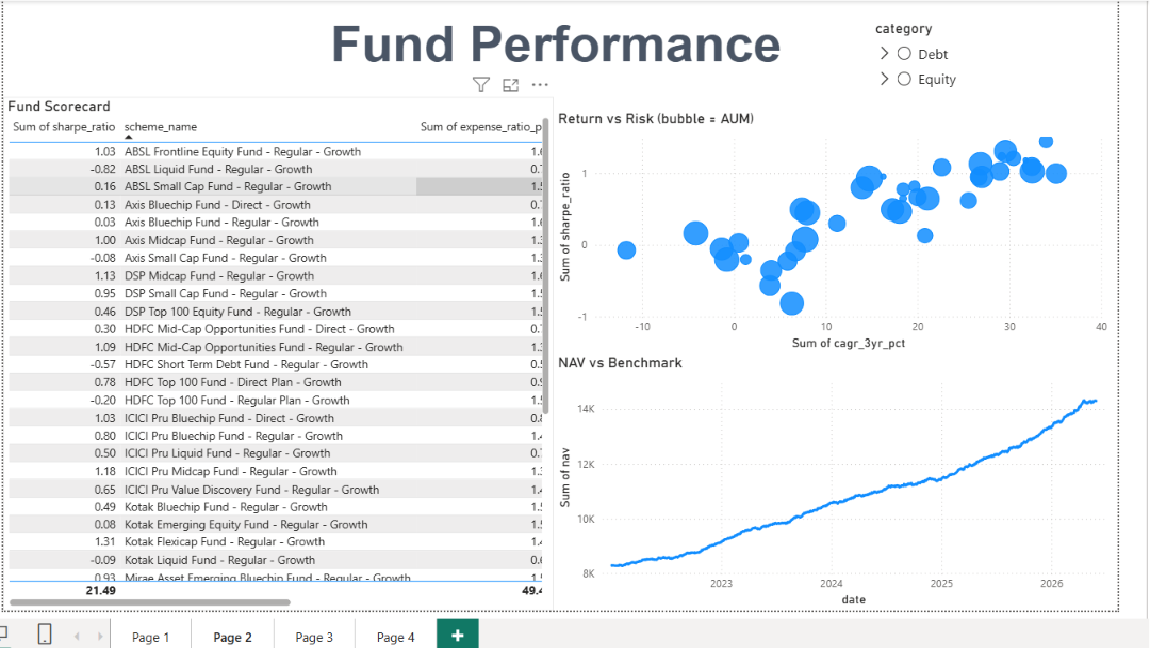

This screenshot's page, from the dashboard's own definition file:
{"tool":"powerbi","page":{"name":"Page 2","canvas":[1280,720],"ordinal":1},"visuals":[{"type":"textbox","box":[370.5,13.5,555.2,81.9],"z":0},{"type":"scatterChart","title":"Return vs Risk (bubble = AUM)","fields":{"X":["Sum(fund_scorecard.cagr_3yr_pct)"],"Y":["Sum(fund_scorecard.sharpe_ratio)"],"Size":["Sum(07_scheme_performance.aum_crore)"],"Category":["fund_scorecard.scheme_name"]},"box":[632.2,128.4,640.8,288.6],"z":1000},{"type":"tableEx","title":"Fund Scorecard","fields":{"Values":["Sum(fund_scorecard.sharpe_ratio)","fund_scorecard.scheme_name","Sum(fund_scorecard.expense_ratio_pct)","Sum(fund_scorecard.fund_score)","Sum(fund_scorecard.cagr_3yr_pct)","fund_scorecard.fund_house","Sum(fund_scorecard.overall_rank)"]},"box":[0,113.7,632.2,606.5],"z":2000},{"type":"lineChart","title":"NAV vs Benchmark","fields":{"Category":["02_nav_history.date"],"Y":["Sum(02_nav_history.nav)"]},"box":[632.2,417,640.8,303.3],"z":3000},{"type":"listSlicer","fields":{"Values":["01_fund_master.category","01_fund_master.plan","01_fund_master.fund_house"]},"box":[996.6,22,247,91.7],"z":4000}]}

Visuals, with their boxes on the page's 1280x720 design canvas (x1, y1, x2, y2). These are canvas units, not pixel positions in the 1152x648 screenshot, which may show the page scaled, cropped or inside an application window:
textbox: box(370, 14, 926, 95)
"Return vs Risk (bubble = AUM)" scatterChart: box(632, 128, 1273, 417)
"Fund Scorecard" tableEx: box(0, 114, 632, 720)
"NAV vs Benchmark" lineChart: box(632, 417, 1273, 720)
listSlicer - 01_fund_master.category x 01_fund_master.plan: box(997, 22, 1244, 114)
